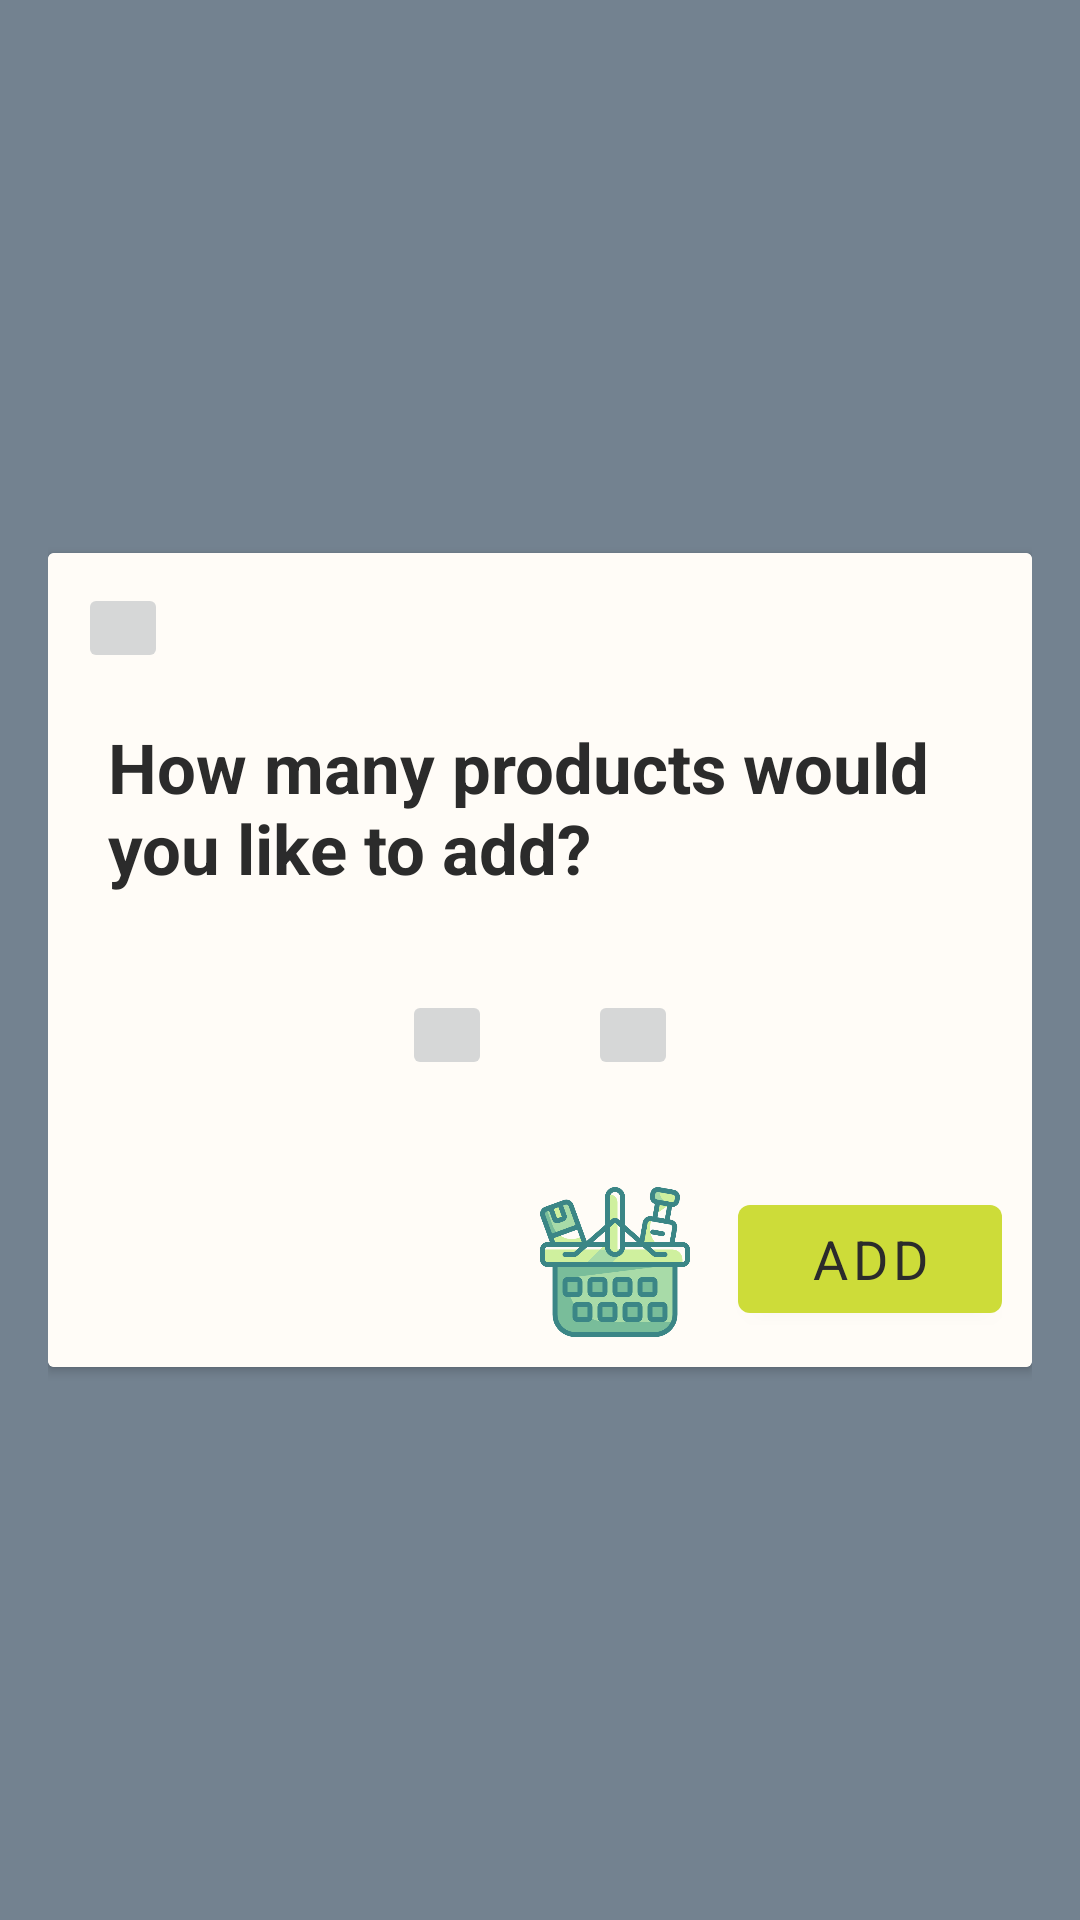

Icon bounding boxes for this 1080w x 1920h phone screenshot, format (x1, y1, x2, y2):
basket: (540, 1187, 690, 1337)
